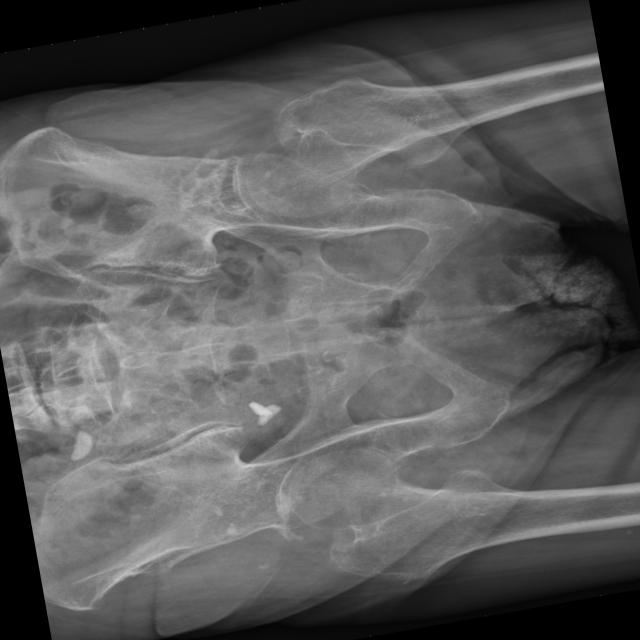normal-left: (246, 68, 532, 218)
normal-right: (288, 448, 588, 579)
